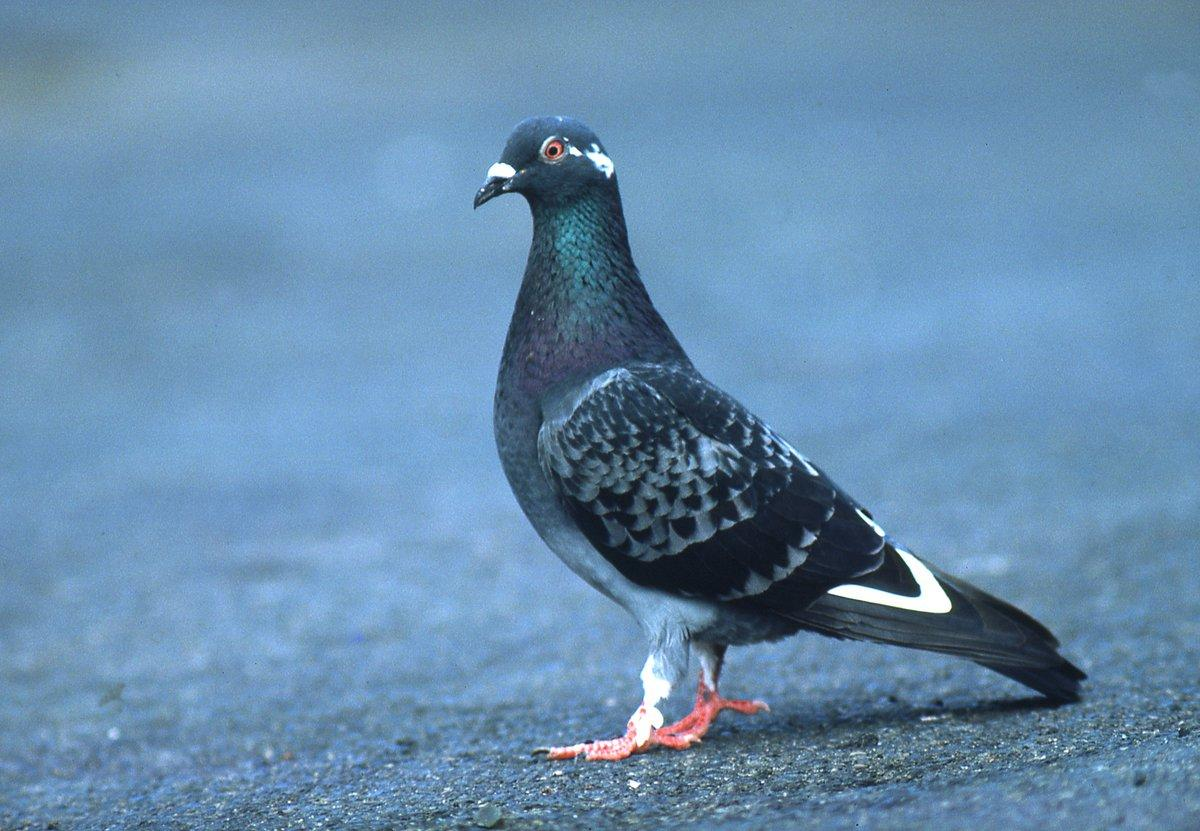Flying Rat: (470, 110, 1065, 760)
